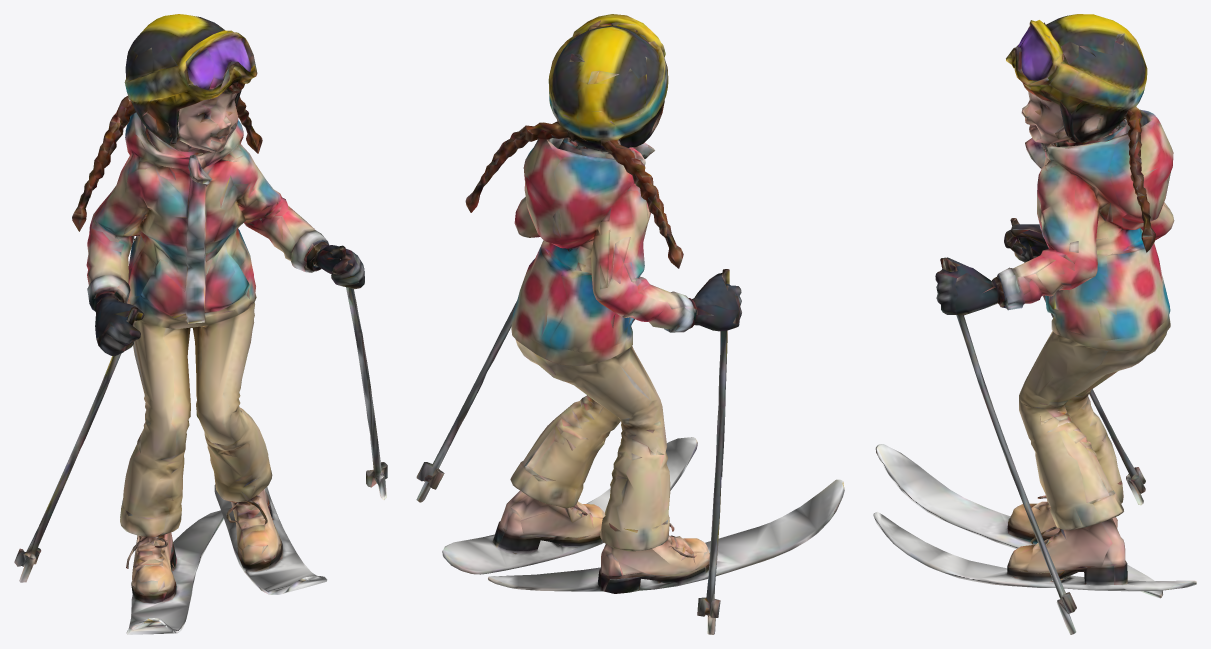
The model's file is kit_erzurum_skier_b.glb.
3 renders of one model, left to right at view 1: azimuth 30°, elevation 25°; view 2: azimuth 150°, elevation 25°; view 3: azimuth 270°, elevation 25°, orthographic.
Visible parts, largest first — view 1: Mesh1.0; view 2: Mesh1.0; view 3: Mesh1.0.
Part boxes in pixels (x1,y1,x2,y2): Mesh1.0: (14, 14, 387, 634); Mesh1.0: (416, 14, 844, 634); Mesh1.0: (873, 14, 1196, 634).
Size of the model in its own units: 1.16 by 1.8 by 0.9563.
Materials: 1 (1 with a texture image).
